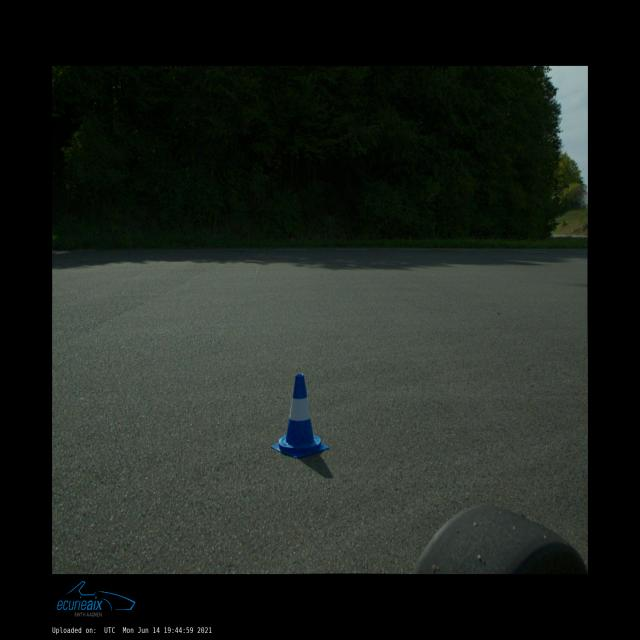blue_cone: (272, 374, 329, 458)
